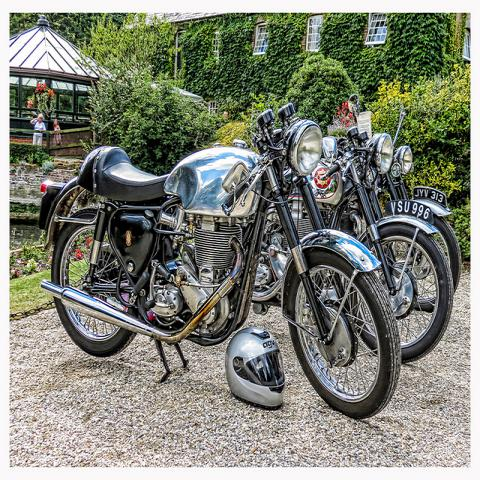motorcycle: (39, 100, 402, 421), (318, 124, 455, 361), (391, 111, 462, 287)
